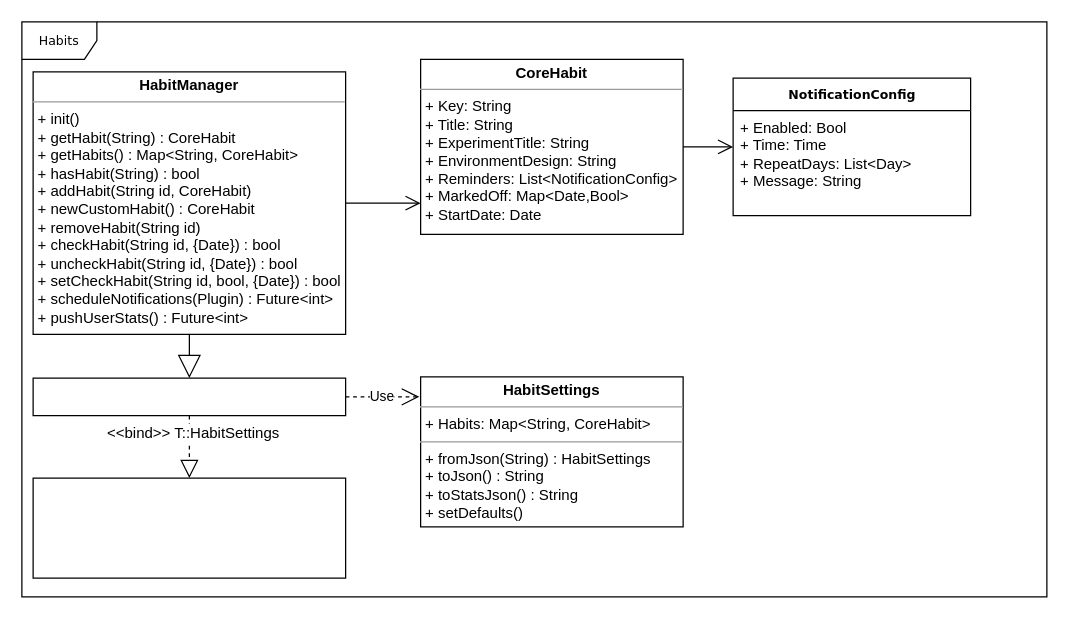
The diagram is 1069 pixels wide and 619 high, and some of its shapes have lost their labels. The shapes that lost their labels are listed below. From the top down, each one's centre as x and y in pixels, then its label:
At pixel 189 396: "SettingsBase<HabitSettings>".
At pixel 189 527: "SettingsBase<T> + Settings: T + Save() + Load()".
